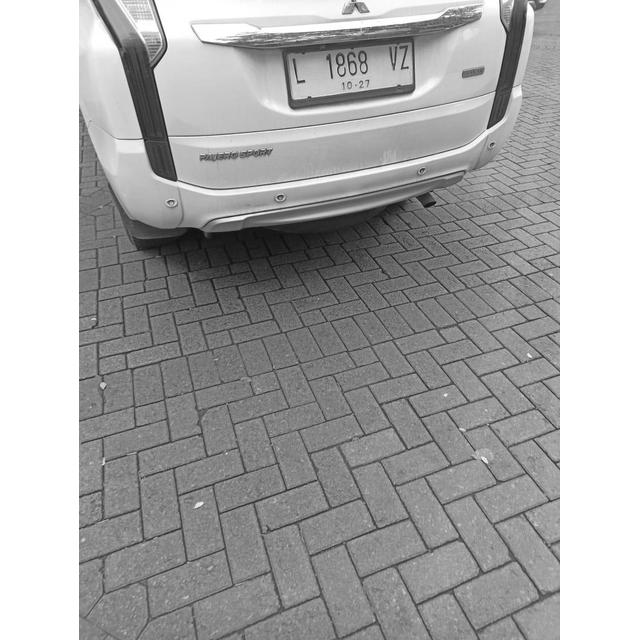license: (290, 42, 412, 90)
